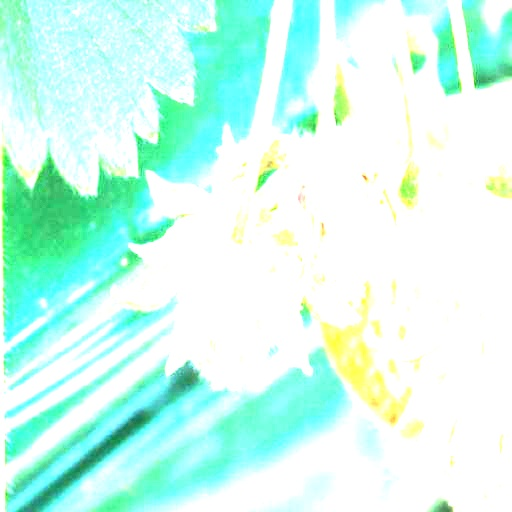Gray Mold: (248, 108, 387, 307)
